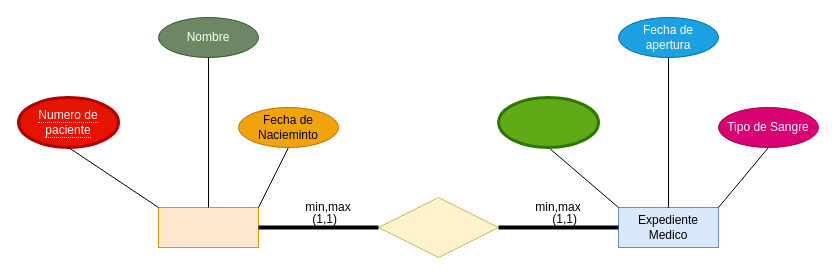
Image size: 836x275. Some labels were removed from this diagram. The box of each missing label's shape, as (x1, y1, x2, y2) in pixels:
Numero de Expediente: (496, 96, 600, 148)
Paciente: (158, 206, 258, 248)
Tiene: (378, 196, 498, 258)
